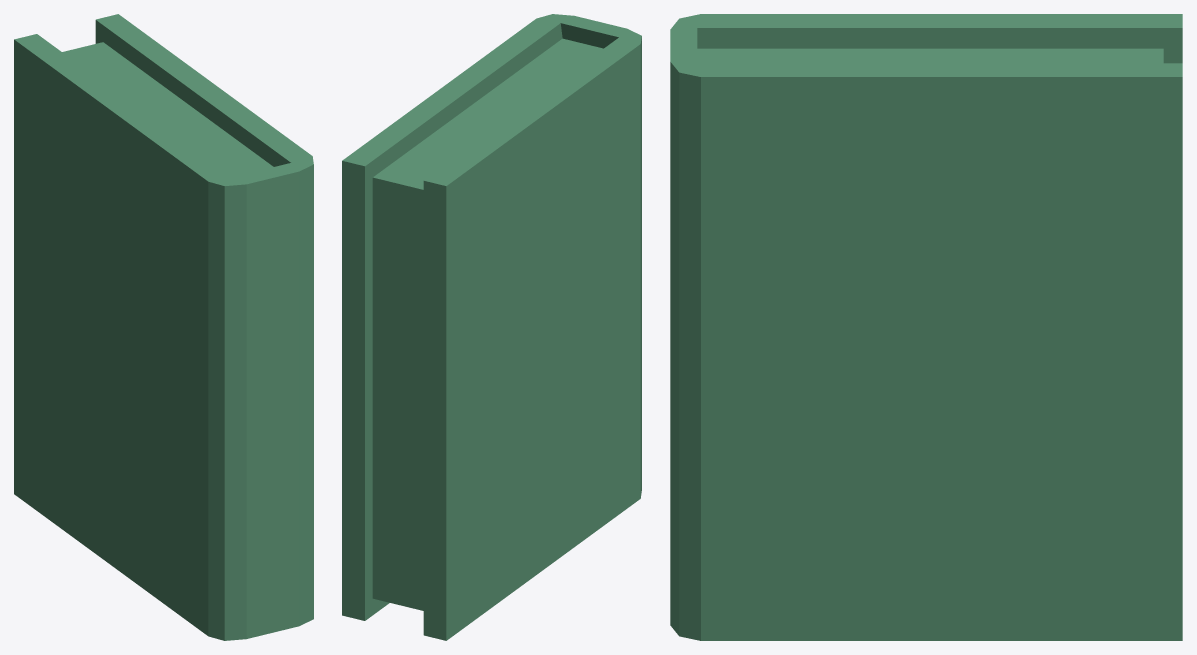
The model's file is 09_book_small.glb.
The picture shows the model from 3 angles, left to right: view 1: azimuth 30°, elevation 25°; view 2: azimuth 150°, elevation 25°; view 3: azimuth 270°, elevation 25°; orthographic projection. The views are drawn at different scales.
Visible parts, largest first — view 1: Book_Small; view 2: Book_Small; view 3: Book_Small.
Boxes of the visible parts, x1,y1,x2,y2 form: Book_Small: [14, 14, 313, 640]; Book_Small: [342, 14, 641, 640]; Book_Small: [670, 14, 1182, 640].
Size of the model in its own units: 0.0593 by 0.2472 by 0.2035.
